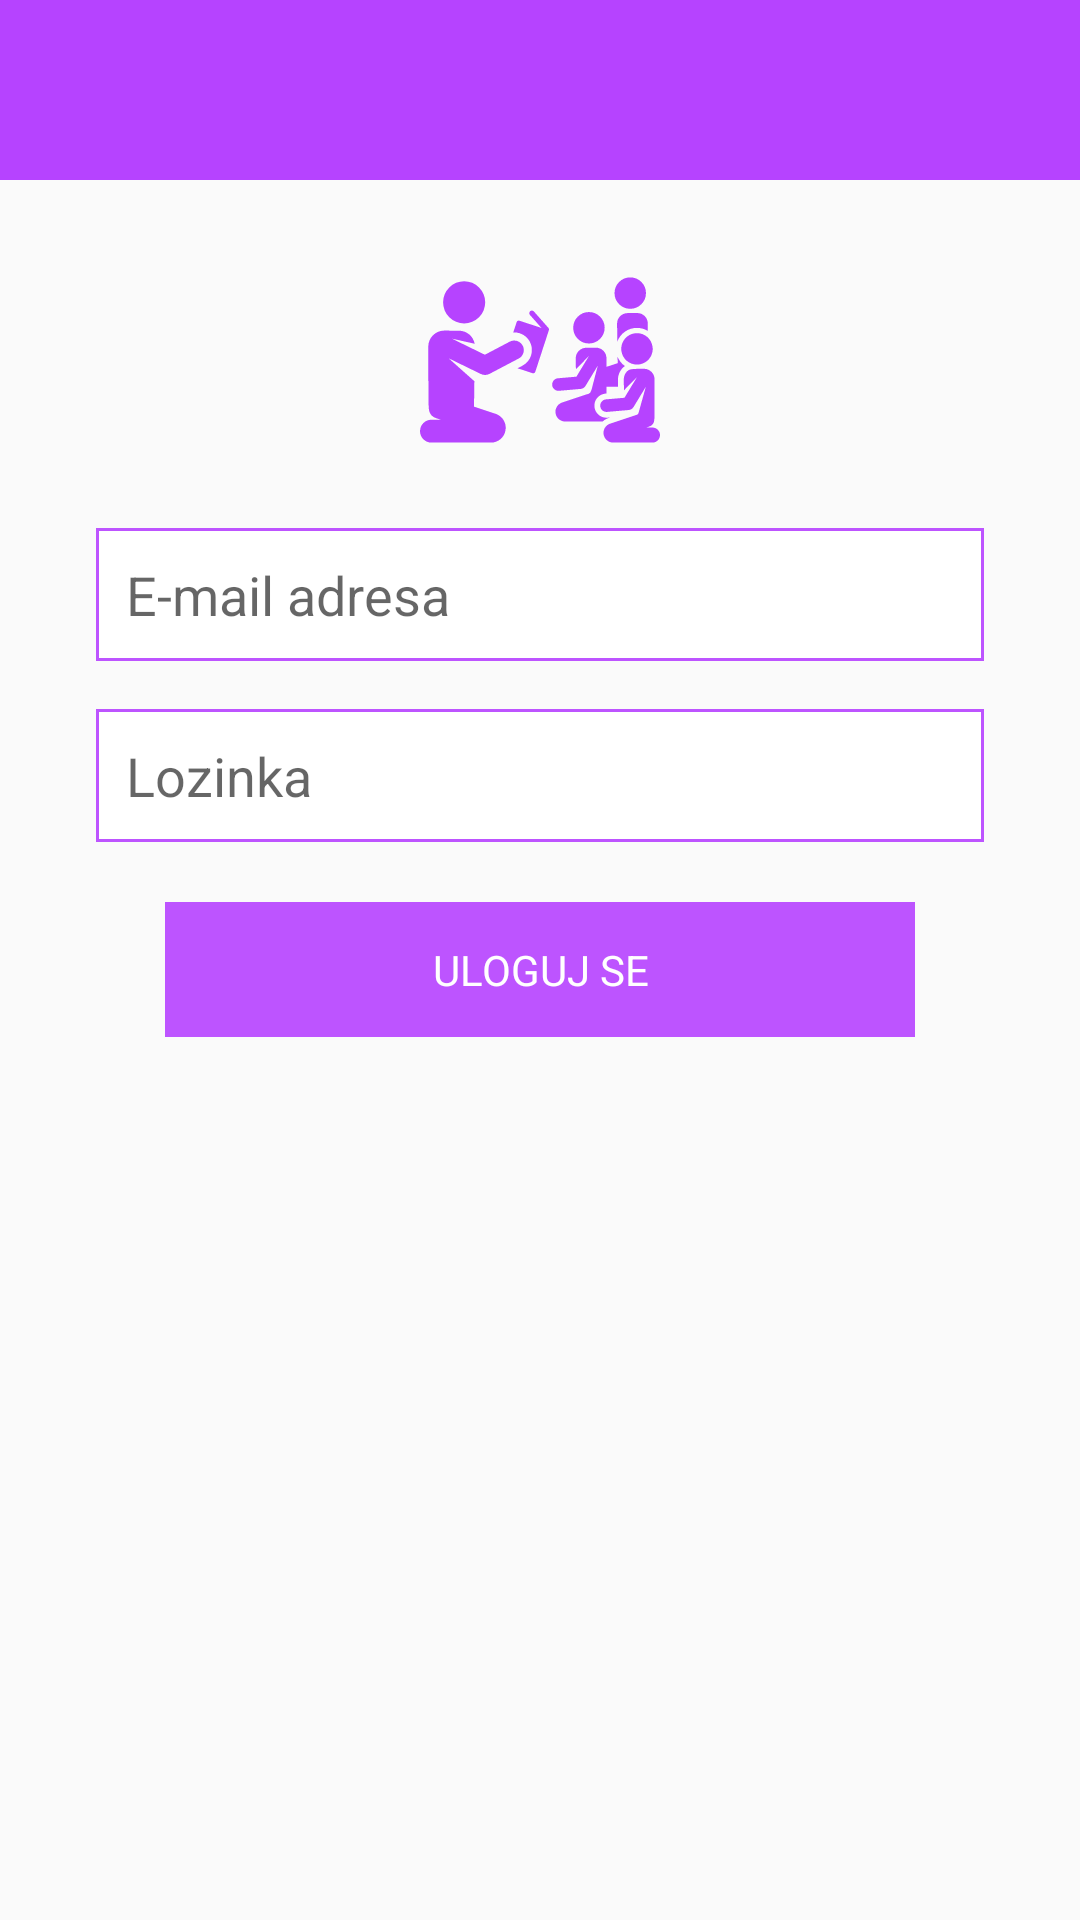

Icon click points for this 1080px x 1920px phone screenshot, format [x,y]:
teaching: [540,360]
